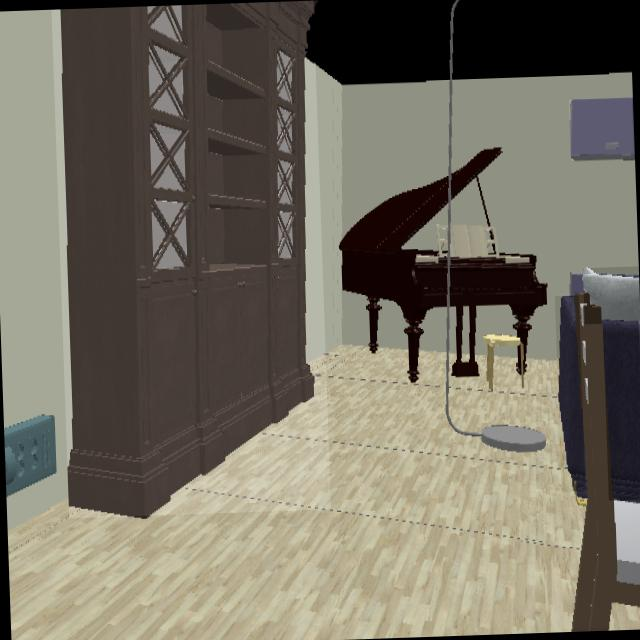cabinet: (62, 0, 314, 515), (571, 97, 633, 158)
chair: (573, 292, 640, 628)
pillow: (584, 268, 639, 322)
sofa: (604, 320, 640, 499), (559, 296, 584, 490)
